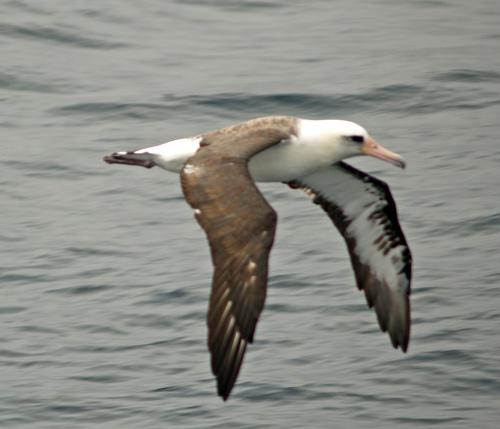002.Laysan_Albatross: (98, 115, 420, 402)
